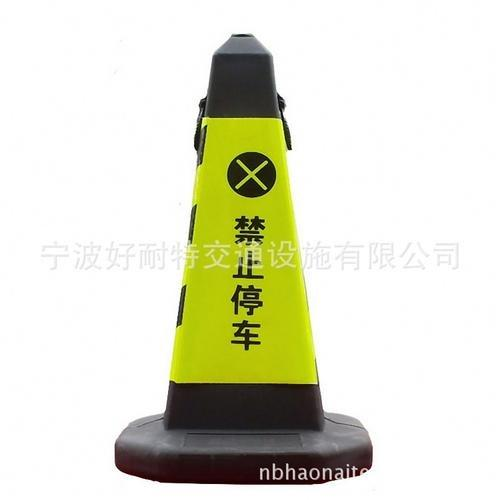cone_barrel: (137, 35, 355, 473)
